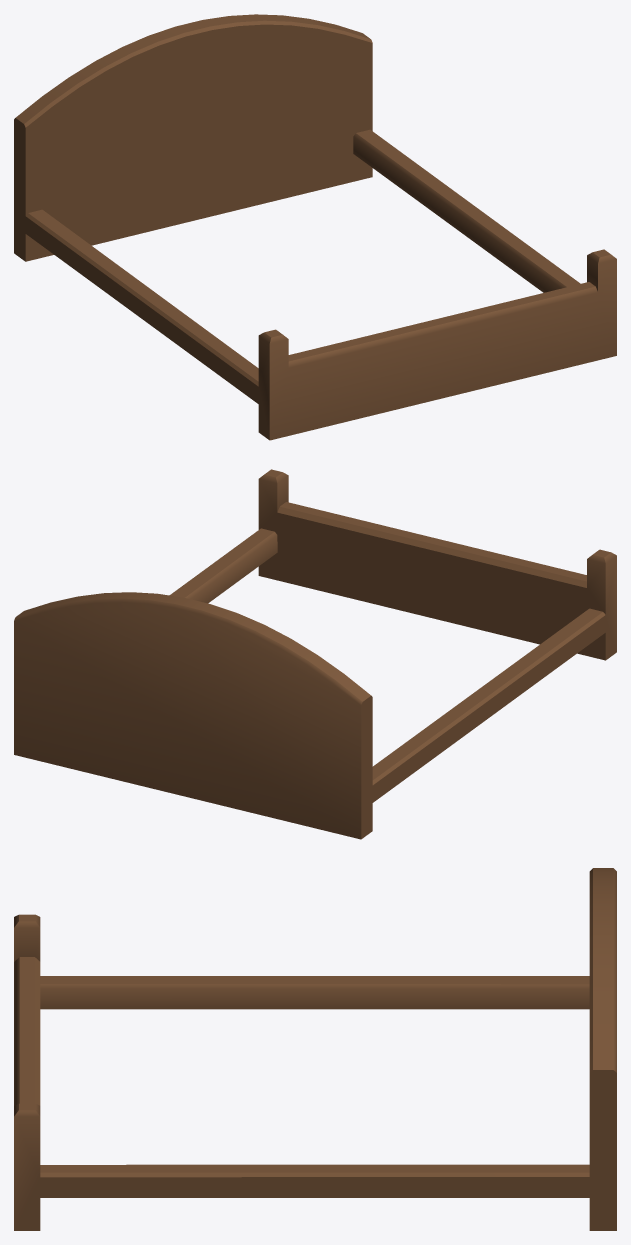
Rendered from Queen_Bed_Frame.fbx.
The picture shows the model from 3 angles, top to bottom: view 1: azimuth 30°, elevation 25°; view 2: azimuth 150°, elevation 25°; view 3: azimuth 270°, elevation 25°; orthographic projection. The views are drawn at different scales.
Parts seen in each view (by area): view 1: Queen_Bed_Frame; view 2: Queen_Bed_Frame; view 3: Queen_Bed_Frame.
Boxes of the visible parts, x1,y1,x2,y2 form: Queen_Bed_Frame: [14, 14, 616, 440]; Queen_Bed_Frame: [14, 469, 616, 839]; Queen_Bed_Frame: [14, 868, 616, 1230].
Bounding box in the file's own units: 173 × 89.9 × 221.
1 material, 1 textured.
